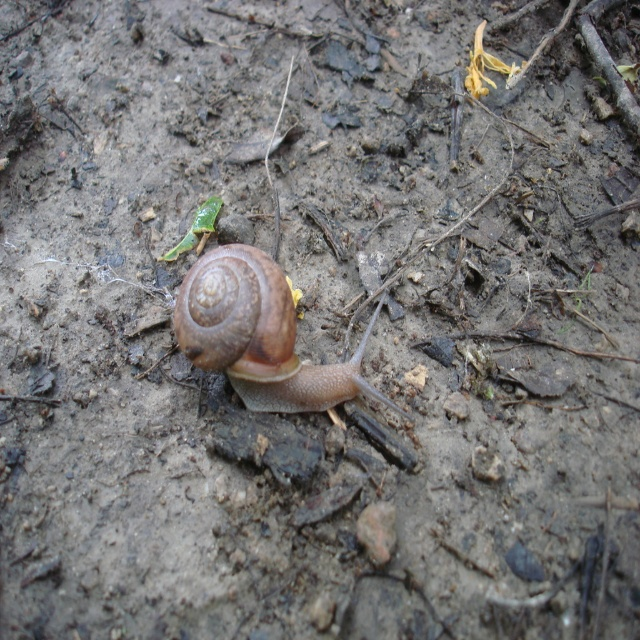Snail: (172, 239, 416, 428)
